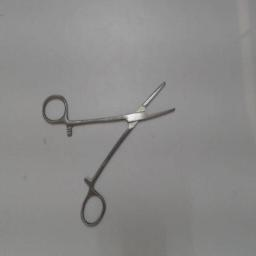Mayo Needle Holder: (38, 78, 182, 230)
